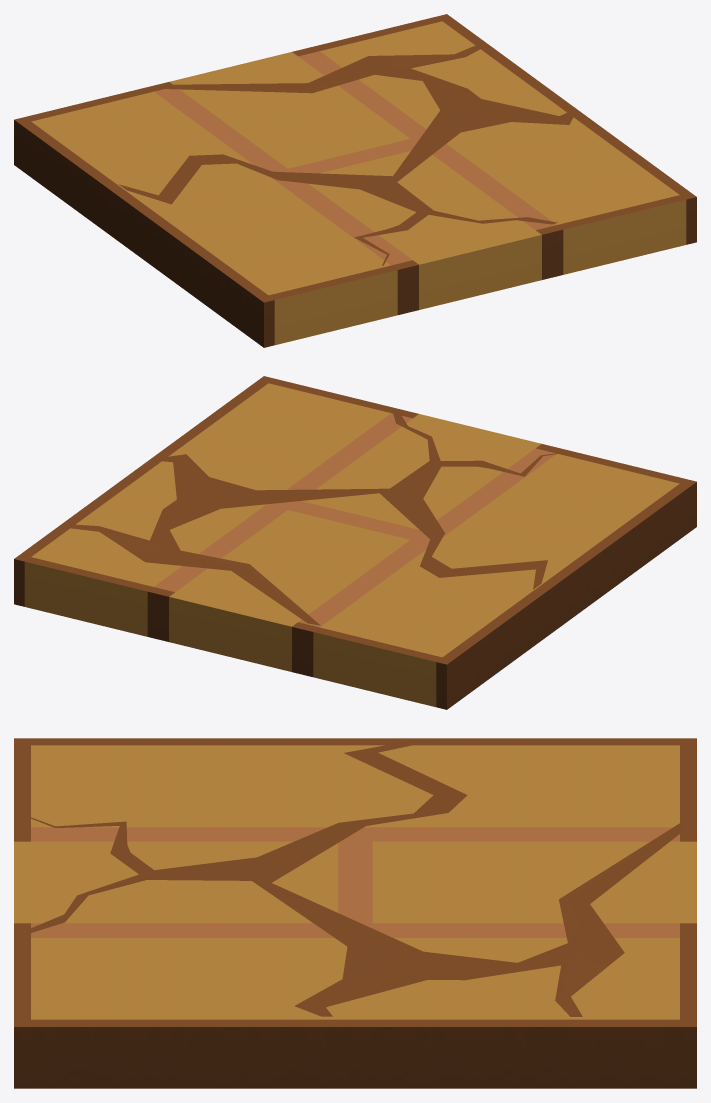
Rendered from Broken_FloorTile.FBX.
3 renders of one model, top to bottom at view 1: azimuth 30°, elevation 25°; view 2: azimuth 150°, elevation 25°; view 3: azimuth 270°, elevation 25°, orthographic. The views are drawn at different scales.
Visible parts, largest first — view 1: FloorTile013; view 2: FloorTile013; view 3: FloorTile013.
Part boxes in pixels (bbox=[...]): FloorTile013: bbox=[14, 14, 696, 347]; FloorTile013: bbox=[14, 376, 696, 709]; FloorTile013: bbox=[14, 738, 696, 1088].
Size of the model in its own units: 1 by 0.1066 by 1.
